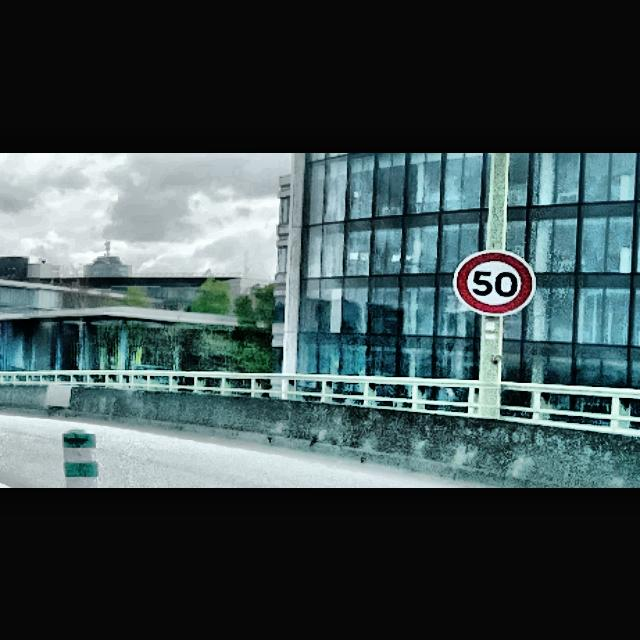speed_50: (453, 251, 535, 313)
